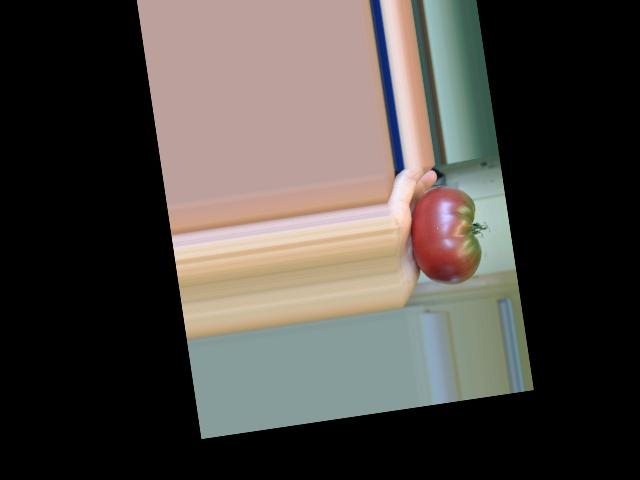tomato: (404, 182, 485, 289)
